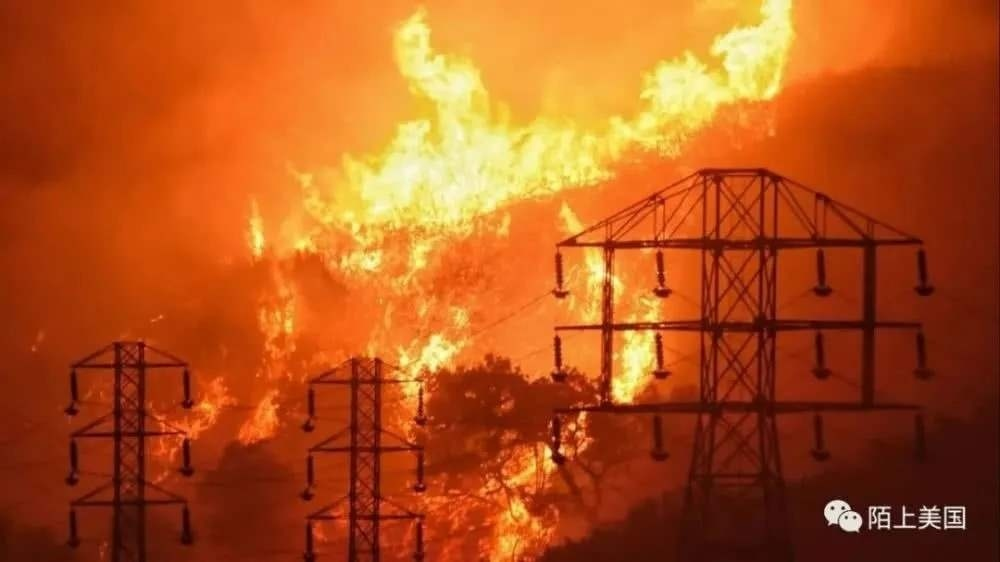fire: (125, 26, 931, 562)
